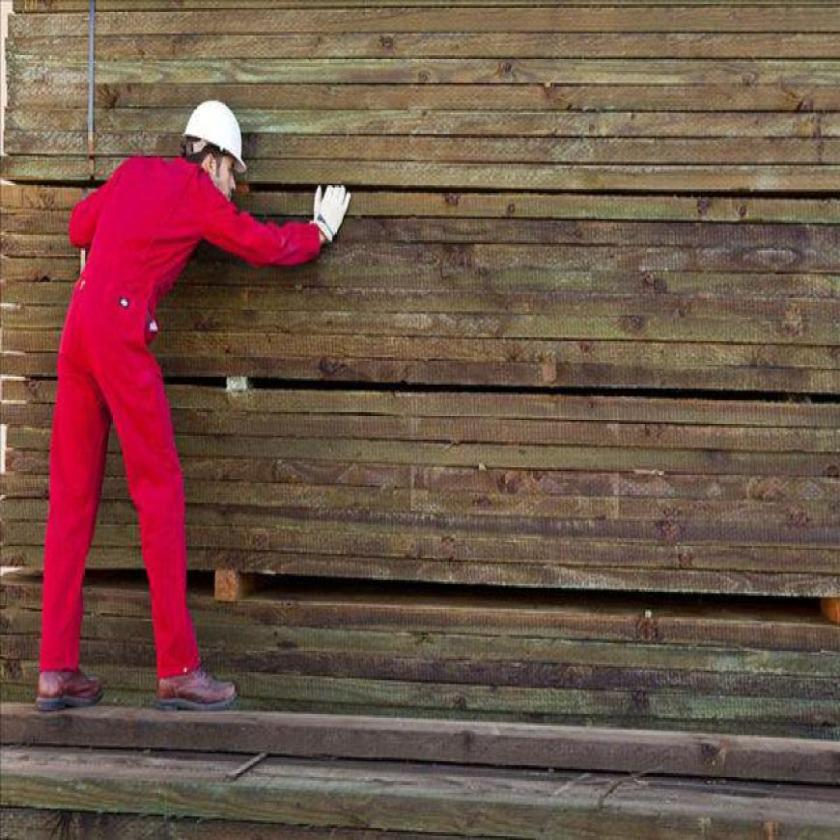Con_casco: (167, 94, 263, 206)
